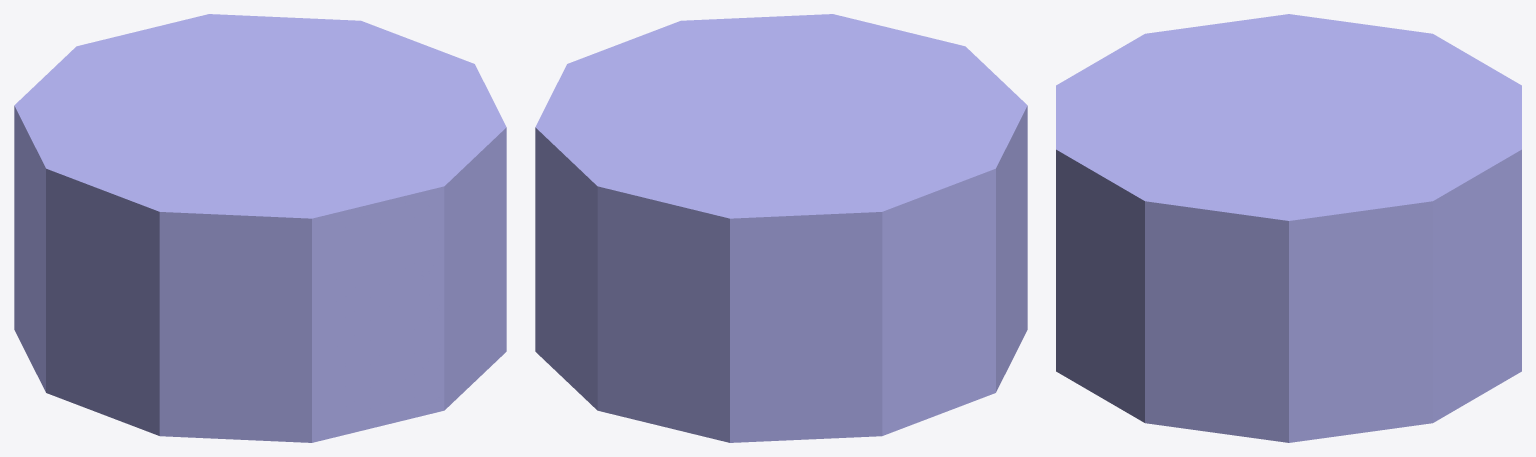
File: Elements_Spatial_CellComplex_CellComplex.glb
The picture shows the model from 3 angles, left to right: view 1: azimuth 30°, elevation 25°; view 2: azimuth 150°, elevation 25°; view 3: azimuth 270°, elevation 25°; orthographic projection.
Parts seen in each view (by area): view 1: da32aa05-a538-4845-bf80-aceb736ac6ab_mesh, 85730fdc-d8ad-4c42-b685-58a6ee68af12_mesh, 896bc819-5a24-40fe-9551-8782301f9a8a_mesh, 36e989a5-4795-4a75-8b2d-d5fd0493d497_mesh, cc291399-d173-412b-8034-556c27ea370a_mesh, 7a0de09f-531b-4081-afb7-7f777d072f8e_mesh, e0e89044-925e-4efc-a509-71b685ce9b09_mesh, 4cd1a78c-2565-4791-bf77-5c110ea705c9_mesh, 2d686fa6-3f0d-455a-bbea-cac13379b87f_mesh, 8a071c27-902e-47ea-a905-345e85eadfeb_mesh, 58984188-6c30-4ff5-9bc0-07cde7d103ea_mesh, 6f764404-1b42-4810-8a0b-a9952532f8e0_mesh (+185 smaller); view 2: e02764a7-a976-4c94-89a3-3d5bbf3464c4_mesh, 5126141b-b372-4db4-a0e3-68860b44b383_mesh, 1d0bbd47-a744-405c-b880-c189de84f223_mesh, 725a6a38-8ed0-4253-9e54-a446f1accbc7_mesh, 0a662405-caaf-4c50-98eb-84c1fa25f1c2_mesh, 55d353c4-11a0-4aff-a6b1-7e8660ebdf8a_mesh, 6246be3a-57be-416a-9f67-f73759fa9613_mesh, a183ed9a-c9cf-4e5a-921a-dced6d6f509d_mesh, 304ffbaf-7bb7-466b-b546-401fd105a415_mesh, e1fdd5b3-01ed-4104-822a-aaf7d58e45f4_mesh, f58f60e1-4a41-4502-99ad-aee3a02f5101_mesh, e0745f4d-4f26-4c41-8ff7-9ccbf9d1a06c_mesh (+176 smaller); view 3: d549194d-3120-4d05-a144-7ebd3774cf76_mesh, fb6ff72f-af55-4c57-9927-a3edc3d2031a_mesh, d684c8cc-c1c1-4dca-85c2-effc8caa79f4_mesh, c3b81719-b40f-4a8c-b786-65f32f76cef2_mesh, 8cd162e6-6290-4cf3-99ee-d6b2561461d1_mesh, 1df897c6-df0b-417f-9bde-b26255d470be_mesh, a7b17a58-3f52-4530-b043-a02c92cd2037_mesh, 8c6dc255-0d7f-4357-a1ad-746cfff1e9eb_mesh, 0d898b60-4bd1-4009-91fb-ec71d3a2be12_mesh, 50f2315a-ef31-4570-b600-a186c8dc207f_mesh, ca354441-7492-4acd-8c2b-2a66243ff481_mesh, 0dbce597-0ed0-4501-8079-1b6d4dd99c10_mesh (+166 smaller).
Boxes of the visible parts, <box> form: da32aa05-a538-4845-bf80-aceb736ac6ab_mesh: <box>162,234,223,259</box>; 85730fdc-d8ad-4c42-b685-58a6ee68af12_mesh: <box>162,391,223,416</box>; 896bc819-5a24-40fe-9551-8782301f9a8a_mesh: <box>162,346,223,371</box>; 36e989a5-4795-4a75-8b2d-d5fd0493d497_mesh: <box>162,324,223,349</box>; cc291399-d173-412b-8034-556c27ea370a_mesh: <box>162,279,223,304</box>; 7a0de09f-531b-4081-afb7-7f777d072f8e_mesh: <box>162,301,223,326</box>; e0e89044-925e-4efc-a509-71b685ce9b09_mesh: <box>162,369,223,393</box>; 4cd1a78c-2565-4791-bf77-5c110ea705c9_mesh: <box>162,414,223,438</box>; 2d686fa6-3f0d-455a-bbea-cac13379b87f_mesh: <box>162,257,223,281</box>; 8a071c27-902e-47ea-a905-345e85eadfeb_mesh: <box>162,212,223,236</box>; 58984188-6c30-4ff5-9bc0-07cde7d103ea_mesh: <box>228,394,284,419</box>; 6f764404-1b42-4810-8a0b-a9952532f8e0_mesh: <box>228,237,284,262</box>; e02764a7-a976-4c94-89a3-3d5bbf3464c4_mesh: <box>772,394,818,418</box>; 5126141b-b372-4db4-a0e3-68860b44b383_mesh: <box>772,371,818,396</box>; 1d0bbd47-a744-405c-b880-c189de84f223_mesh: <box>772,349,818,373</box>; 725a6a38-8ed0-4253-9e54-a446f1accbc7_mesh: <box>772,237,818,261</box>; 0a662405-caaf-4c50-98eb-84c1fa25f1c2_mesh: <box>772,327,818,351</box>; 55d353c4-11a0-4aff-a6b1-7e8660ebdf8a_mesh: <box>772,304,818,328</box>; 6246be3a-57be-416a-9f67-f73759fa9613_mesh: <box>772,282,818,306</box>; a183ed9a-c9cf-4e5a-921a-dced6d6f509d_mesh: <box>772,416,818,440</box>; 304ffbaf-7bb7-466b-b546-401fd105a415_mesh: <box>772,259,818,283</box>; e1fdd5b3-01ed-4104-822a-aaf7d58e45f4_mesh: <box>772,214,818,238</box>; f58f60e1-4a41-4502-99ad-aee3a02f5101_mesh: <box>904,134,971,162</box>; e0745f4d-4f26-4c41-8ff7-9ccbf9d1a06c_mesh: <box>879,152,946,180</box>; d549194d-3120-4d05-a144-7ebd3774cf76_mesh: <box>1154,269,1202,297</box>; fb6ff72f-af55-4c57-9927-a3edc3d2031a_mesh: <box>1203,409,1251,437</box>; d684c8cc-c1c1-4dca-85c2-effc8caa79f4_mesh: <box>1154,380,1202,408</box>; c3b81719-b40f-4a8c-b786-65f32f76cef2_mesh: <box>1301,368,1349,396</box>; 8cd162e6-6290-4cf3-99ee-d6b2561461d1_mesh: <box>1350,339,1398,367</box>; 1df897c6-df0b-417f-9bde-b26255d470be_mesh: <box>1350,317,1398,345</box>; a7b17a58-3f52-4530-b043-a02c92cd2037_mesh: <box>1203,298,1251,326</box>; 8c6dc255-0d7f-4357-a1ad-746cfff1e9eb_mesh: <box>1301,257,1349,285</box>; 0d898b60-4bd1-4009-91fb-ec71d3a2be12_mesh: <box>1350,228,1398,256</box>; 50f2315a-ef31-4570-b600-a186c8dc207f_mesh: <box>1301,212,1349,241</box>; ca354441-7492-4acd-8c2b-2a66243ff481_mesh: <box>1350,206,1398,234</box>; 0dbce597-0ed0-4501-8079-1b6d4dd99c10_mesh: <box>1154,402,1202,430</box>.
Size of the model in its own units: 20 by 10 by 19.02.
